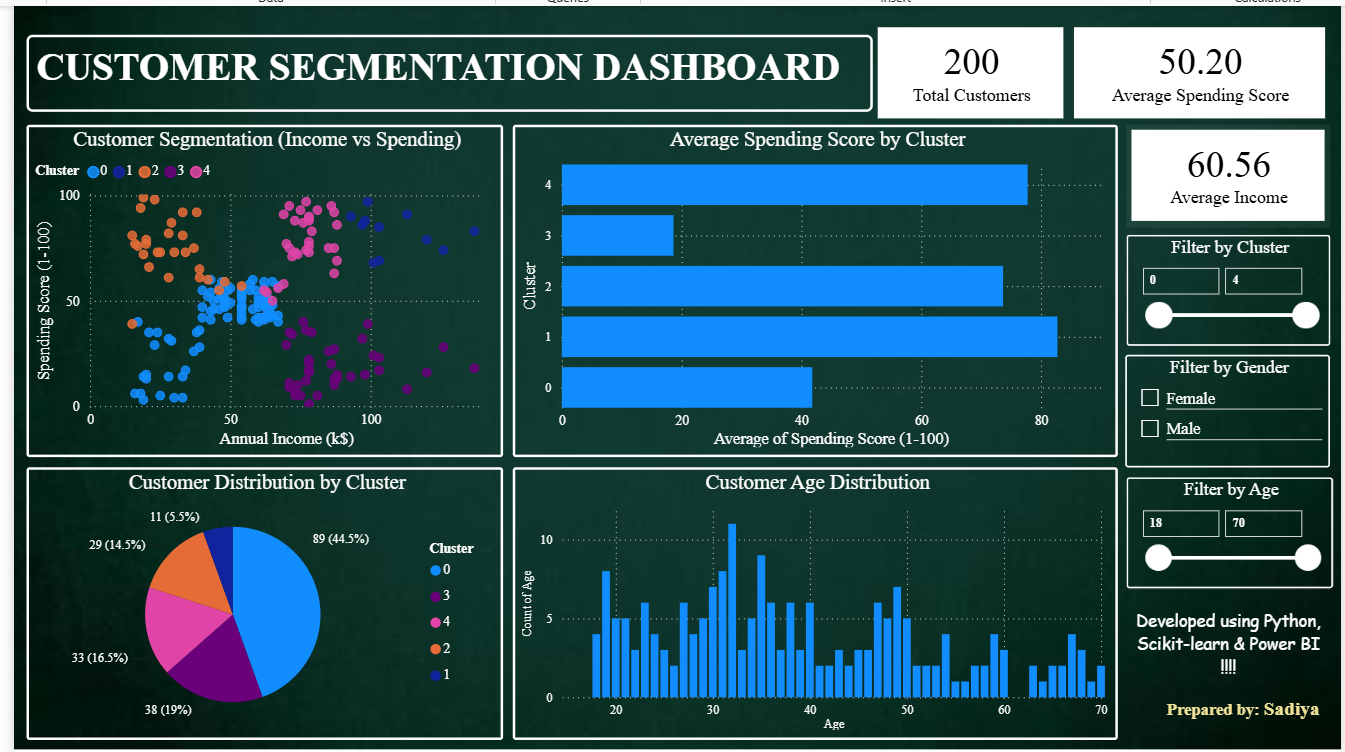

Layout of this report page (visuals, bound fields, positions):
{"tool":"powerbi","page":{"name":"Page 1","canvas":[1280,720],"ordinal":0},"visuals":[{"type":"textbox","box":[12.1,27.7,816.8,74.8],"z":0},{"type":"scatterChart","title":"Customer Segmentation (Income vs Spending)","fields":{"Series":["customer_segments1.Cluster"],"X":["customer_segments1.Annual Income (k$)"],"Y":["customer_segments1.Spending Score (1-100)"]},"box":[12.1,114.6,459.7,320.9],"z":1000},{"type":"pieChart","title":"Customer Distribution by Cluster","fields":{"Category":["customer_segments1.Cluster"],"Y":["CountNonNull(customer_segments1.Cluster)"]},"box":[12.1,445.2,459.7,263],"z":2000},{"type":"barChart","title":"Average Spending Score by Cluster","fields":{"Category":["customer_segments1.Cluster"],"Y":["Avg(customer_segments1.Spending Score (1-100))"]},"box":[481.4,114.6,583.9,320.9],"z":3000},{"type":"clusteredColumnChart","title":"Customer Age Distribution","fields":{"Category":["customer_segments1.Age"],"Y":["CountNonNull(customer_segments1.Age)"]},"box":[481.4,445.2,583.9,263],"z":4000},{"type":"cardVisual","fields":{"Data":["CountNonNull(Mall_Customers.CustomerID)"]},"box":[828.8,15.7,189.4,98.9],"z":5000},{"type":"cardVisual","fields":{"Data":["Avg(Mall_Customers.Annual Income (k$))"]},"box":[1073.7,114.6,196.6,98.9],"z":6000},{"type":"cardVisual","fields":{"Data":["Avg(Mall_Customers.Spending Score (1-100))"]},"box":[1018.2,15.7,252.1,98.9],"z":7000},{"type":"slicer","title":"Filter by Cluster","fields":{"Values":["customer_segments1.Cluster"]},"box":[1073.7,220.8,196.6,107.4],"z":8000},{"type":"slicer","title":"Filter by Gender","fields":{"Values":["Mall_Customers.Genre"]},"box":[1072.5,336.6,197.9,108.6],"z":9000},{"type":"slicer","title":"Filter by Age","fields":{"Values":["customer_segments1.Age"]},"box":[1073.7,454.8,199.1,107.4],"z":10000},{"type":"textbox","box":[1073.7,576.7,196.6,123.1],"z":11000}]}

Visuals, with their boxes in screenshot pixels (x1, y1, x2, y2):
textbox: [x1=23, y1=36, x2=865, y2=113]
"Customer Segmentation (Income vs Spending)" scatterChart: [x1=23, y1=125, x2=497, y2=456]
"Customer Distribution by Cluster" pieChart: [x1=23, y1=466, x2=497, y2=737]
"Average Spending Score by Cluster" barChart: [x1=507, y1=125, x2=1109, y2=456]
"Customer Age Distribution" clusteredColumnChart: [x1=507, y1=466, x2=1109, y2=737]
cardVisual - CountNonNull(Mall_Customers.CustomerID): [x1=865, y1=23, x2=1061, y2=125]
cardVisual - Avg(Mall_Customers.Annual Income (k$)): [x1=1118, y1=125, x2=1321, y2=227]
cardVisual - Avg(Mall_Customers.Spending Score (1-100)): [x1=1061, y1=23, x2=1321, y2=125]
"Filter by Cluster" slicer: [x1=1118, y1=235, x2=1321, y2=346]
"Filter by Gender" slicer: [x1=1117, y1=354, x2=1321, y2=466]
"Filter by Age" slicer: [x1=1118, y1=476, x2=1323, y2=587]
textbox: [x1=1118, y1=602, x2=1321, y2=729]
